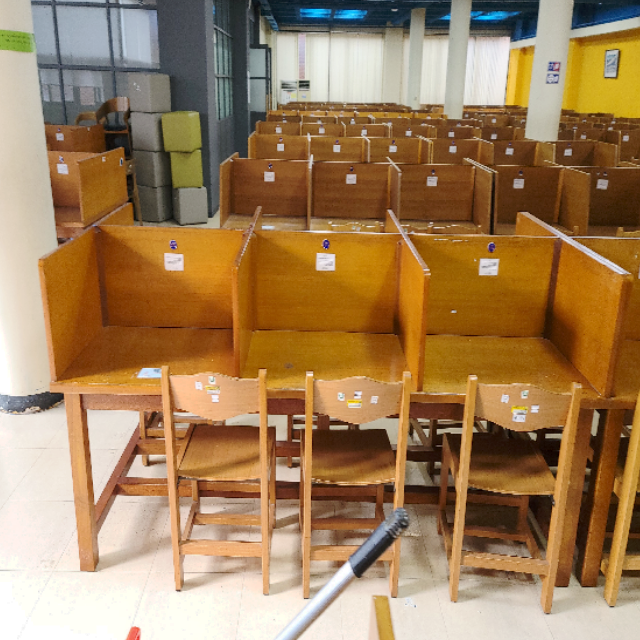empty: (429, 216, 610, 493), (45, 222, 236, 467), (240, 223, 423, 471)
